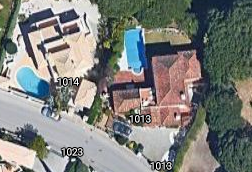pool: (16, 70, 48, 97), (125, 31, 143, 69)
